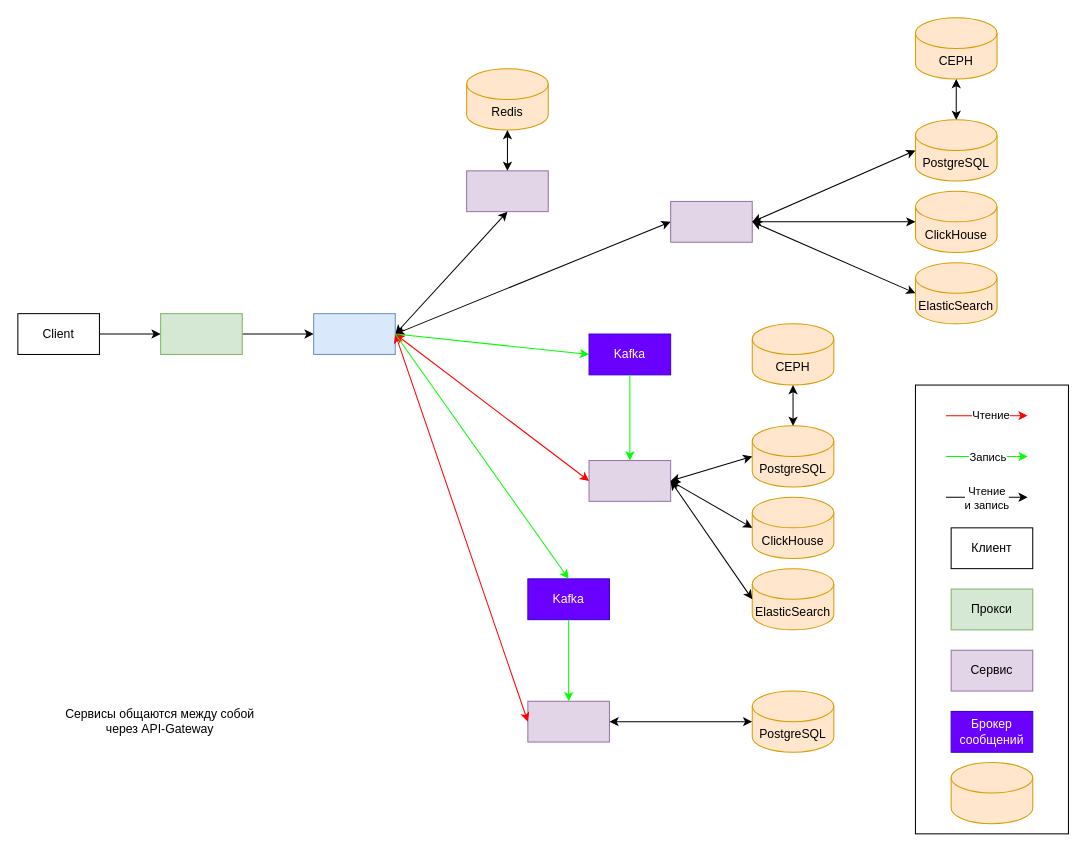
Some shapes in this 1086 by 852 pixel diagram are drawn without their labels. The centre of each missing label's shape, as x and y in pixels:
API-Gateway: the point at 354,333
Article: the point at 629,480
Authorization: the point at 507,191
Comment: the point at 568,721
Nginx: the point at 201,333
User: the point at 711,221
БД: the point at 991,792
